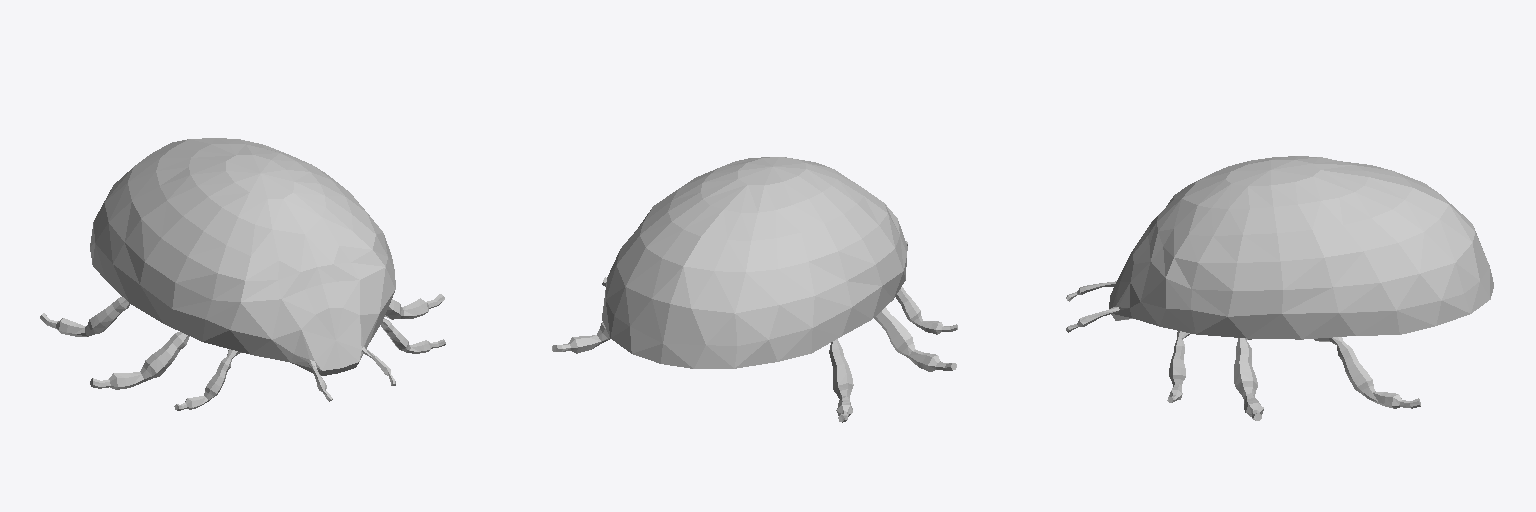
The model's file is LADYBUG.OBJ.
3 renders of one model, left to right at view 1: azimuth 30°, elevation 25°; view 2: azimuth 150°, elevation 25°; view 3: azimuth 270°, elevation 25°, orthographic.
Visible parts, largest first — view 1: ladybug; view 2: ladybug; view 3: ladybug.
Part boxes in pixels (x1,y1,x2,y2): ladybug: (40, 138, 445, 410); ladybug: (552, 157, 957, 422); ladybug: (1066, 156, 1493, 420).
Size of the model in its own units: 0.0058 by 0.0027 by 0.0061.